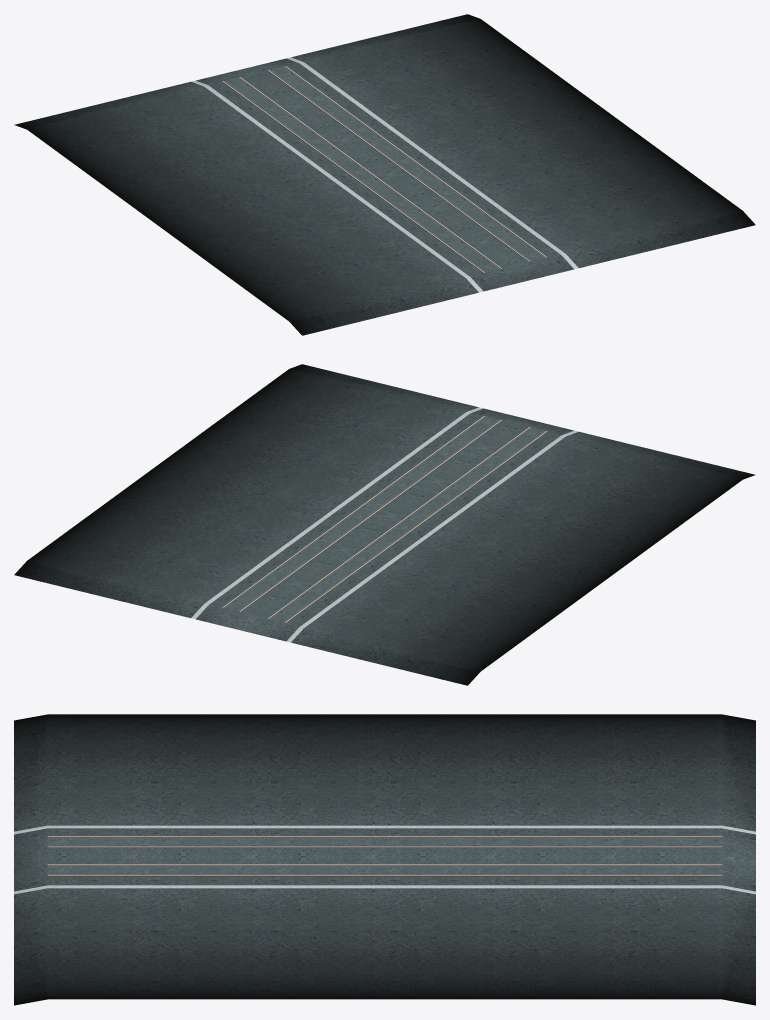
Rendered from 2RAILROMEN02.glb.
The picture shows the model from 3 angles, top to bottom: view 1: azimuth 30°, elevation 25°; view 2: azimuth 150°, elevation 25°; view 3: azimuth 270°, elevation 25°; orthographic projection. The views are drawn at different scales.
Visible parts, largest first — view 1: obj5; view 2: obj5; view 3: obj5.
Part boxes in pixels (<box>): obj5: <box>14,14,755,335</box>; obj5: <box>14,364,755,685</box>; obj5: <box>14,714,755,1005</box>.
Size of the model in its own units: 100 by 1.18 by 110.
3 materials, 3 textured.
